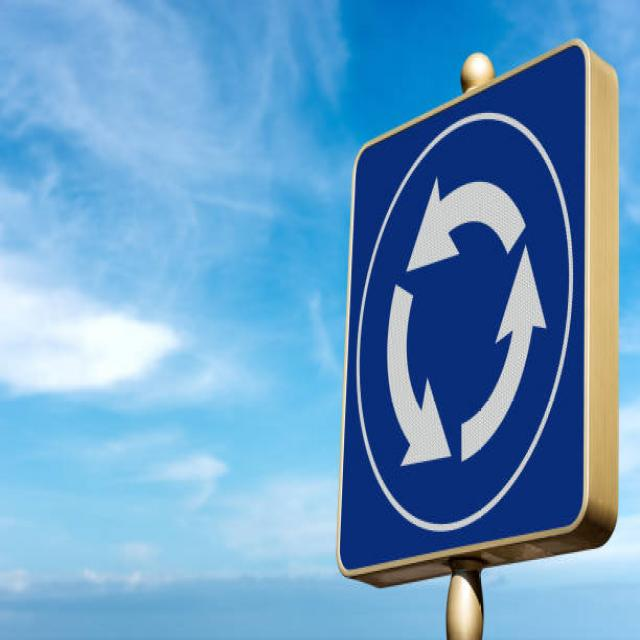roundabout: (359, 98, 578, 533)
